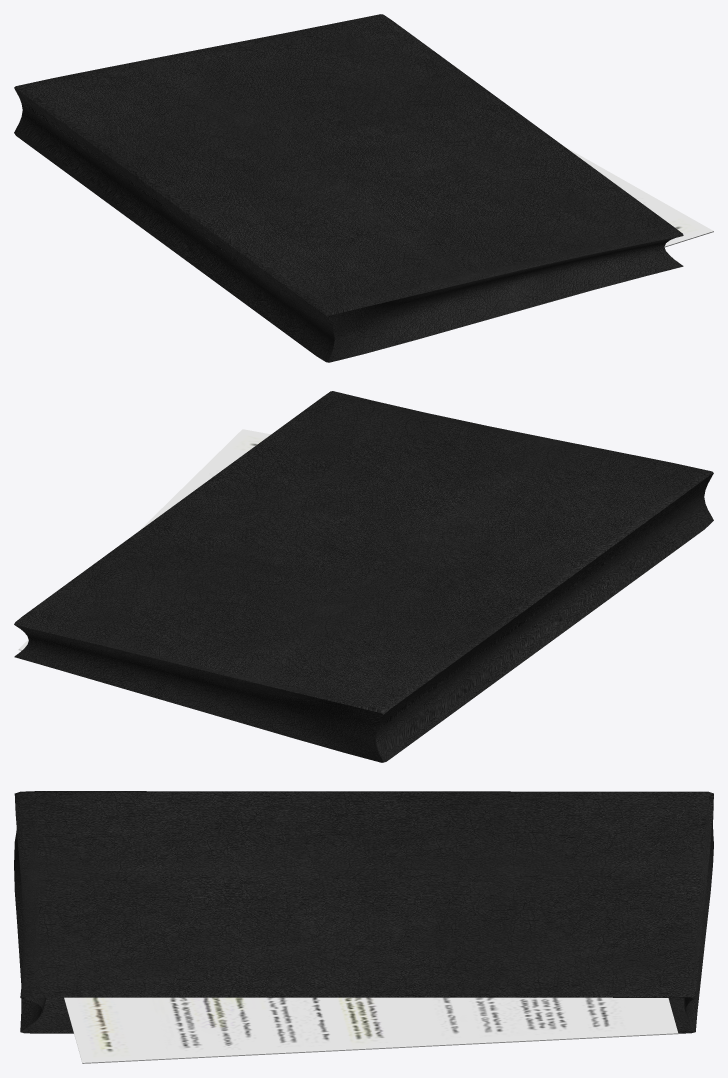
File: Folder.FBX
3 renders of one model, top to bottom at view 1: azimuth 30°, elevation 25°; view 2: azimuth 150°, elevation 25°; view 3: azimuth 270°, elevation 25°, orthographic. The views are drawn at different scales.
Parts seen in each view (by area): view 1: folder, Paper; view 2: folder, Paper; view 3: folder, Paper.
Boxes of the visible parts, box(x1,y1,x2,y2) form: folder: box(14, 14, 683, 362); Paper: box(564, 146, 713, 247); folder: box(14, 391, 713, 762); Paper: box(18, 429, 270, 650); folder: box(14, 791, 713, 1033); Paper: box(64, 997, 678, 1063).
Size of the model in its own units: 24.13 by 2.79 by 31.4.
2 materials, 2 textured.
